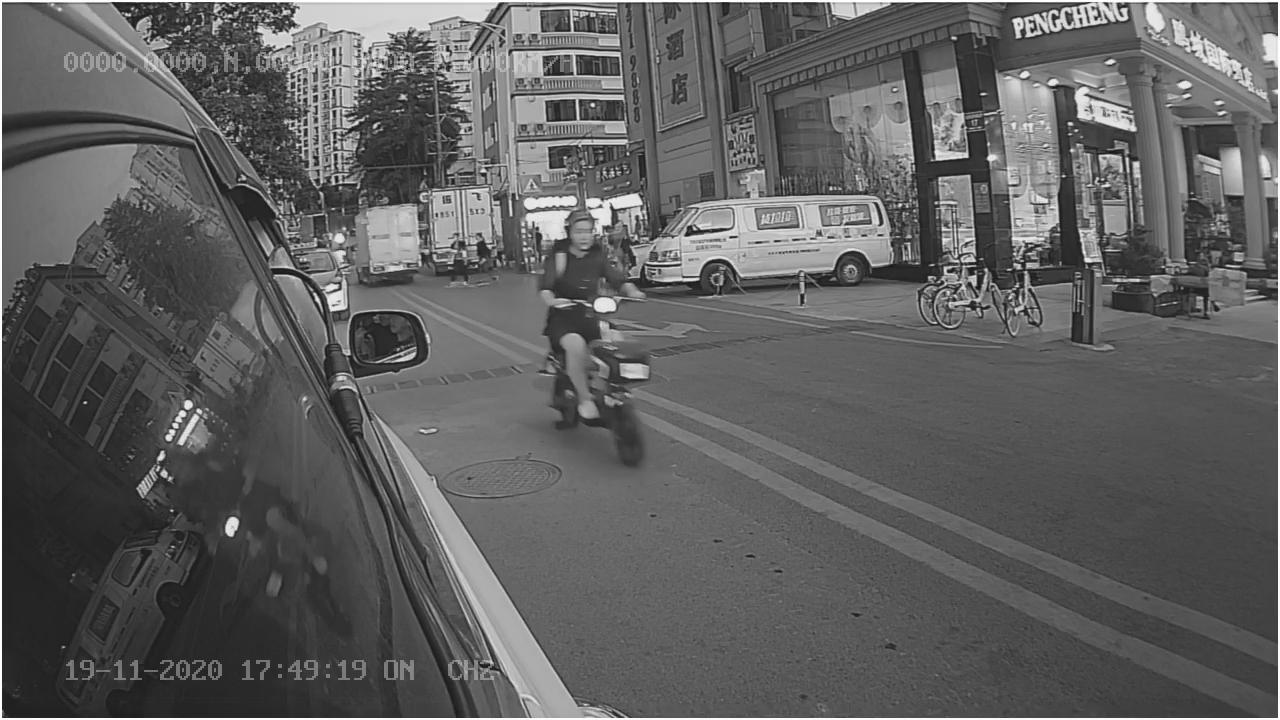person: (533, 201, 609, 311)
